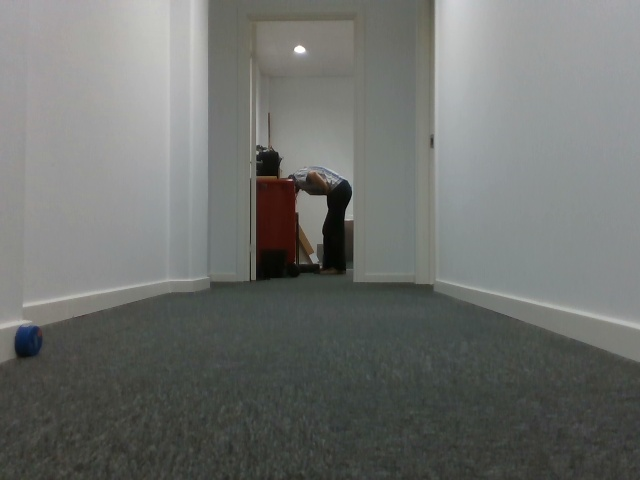alfa: (13, 322, 41, 361)
